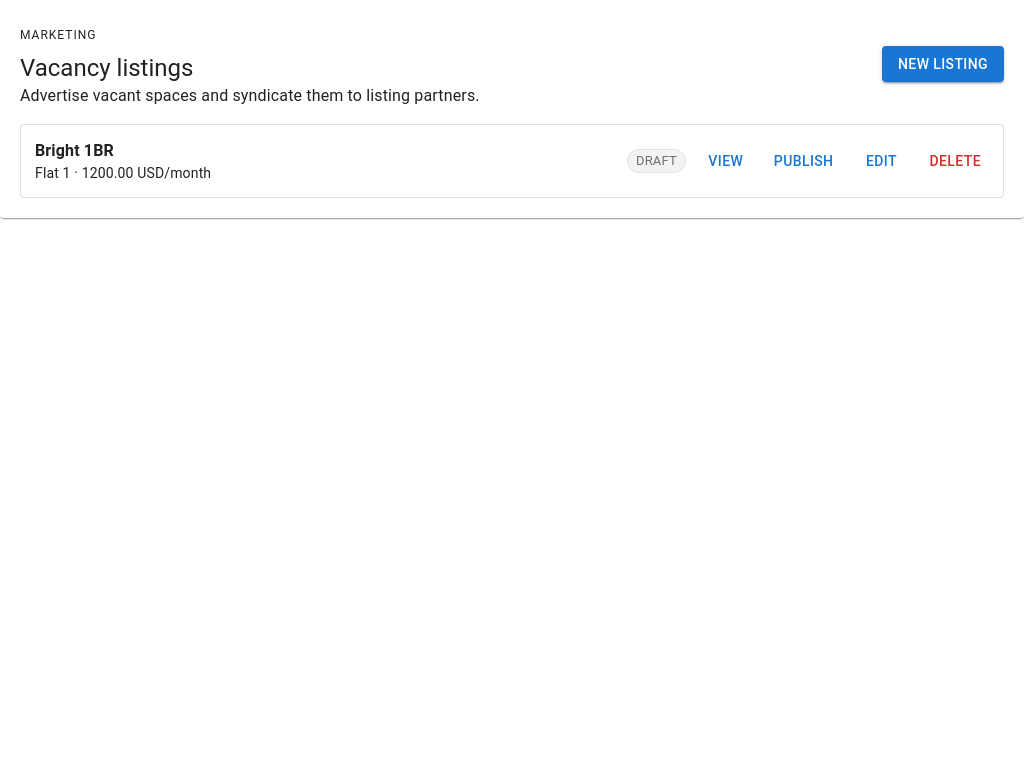
it: blocks a listing without a space, headline, description and rent
What coordinates should you click on to do the following:
click the button "New listing"
I would click on:
 (943, 64)
Its box is left=882, top=46, right=1004, bottom=82.
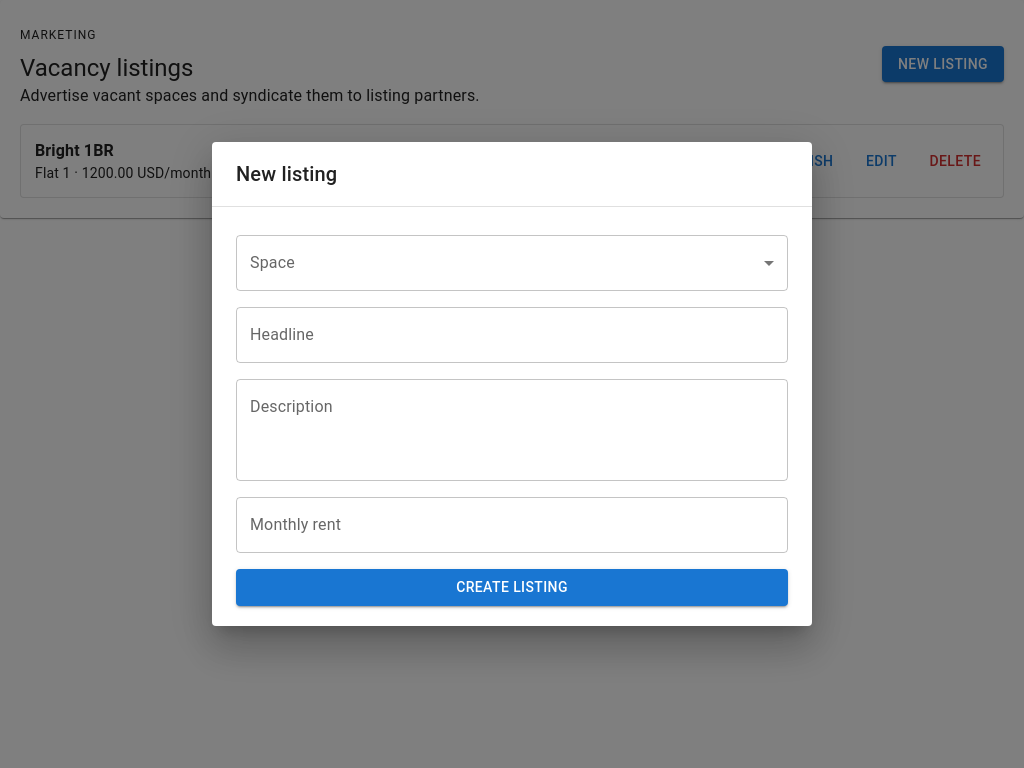
What coordinates should you click on to do the following:
click the button "Create listing"
I would click on:
 (512, 588)
Its box is left=236, top=569, right=788, bottom=606.
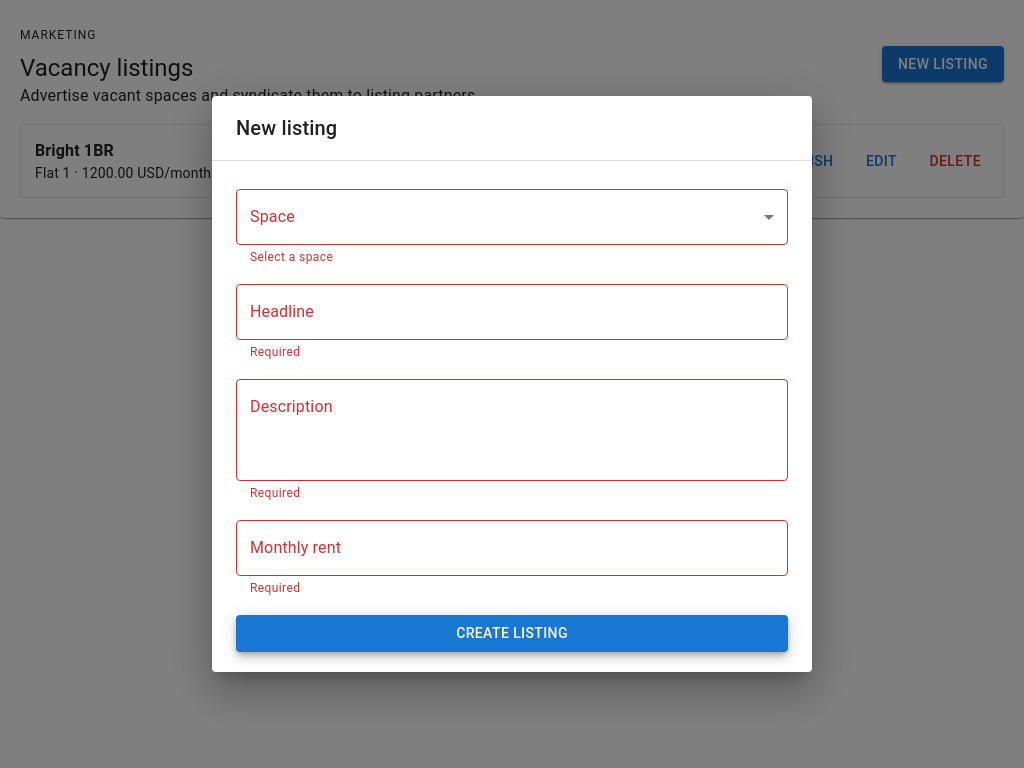
Expected: the text "Select a space" is shown, left=250, top=250, right=333, bottom=264
Expected: the text "Required" is shown 3 times, left=250, top=345, right=300, bottom=359; left=250, top=486, right=300, bottom=500; left=250, top=581, right=300, bottom=595
